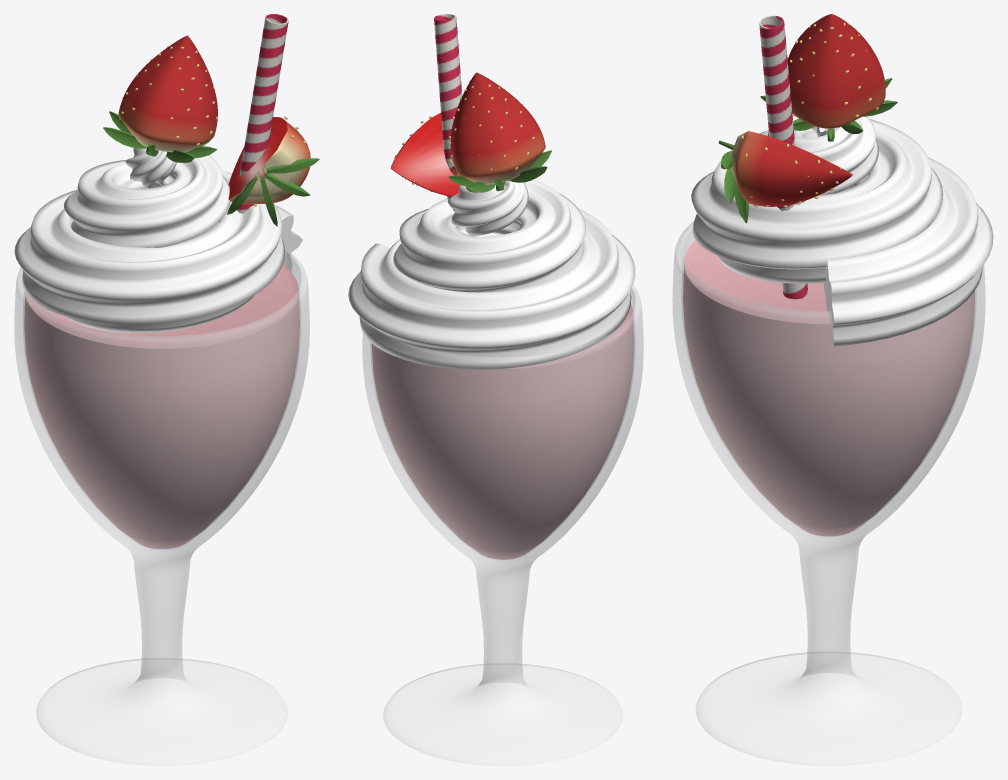
The model's file is strawberry-milkshake.glb.
3 renders of one model, left to right at view 1: azimuth 30°, elevation 25°; view 2: azimuth 150°, elevation 25°; view 3: azimuth 270°, elevation 25°, orthographic. The views are drawn at different scales.
Visible parts, largest first — view 1: base, milkshake, whipped, strawberry; view 2: base, whipped, milkshake, strawberry; view 3: base, milkshake, whipped, strawberry.
Boxes of the visible parts, x1,y1,x2,y2 form: base: (14,14,309,765); milkshake: (24,264,299,548); whipped: (14,148,302,333); strawberry: (103,35,319,226); base: (362,14,643,765); whipped: (348,179,635,369); milkshake: (371,304,634,559); strawberry: (390,72,551,196); base: (672,15,985,765); milkshake: (683,239,974,536); whipped: (691,115,993,346); strawberry: (718,14,897,222).
Bounding box in the file's own units: 0.0927 × 0.2275 × 0.0897.
11 materials, 5 textured.
